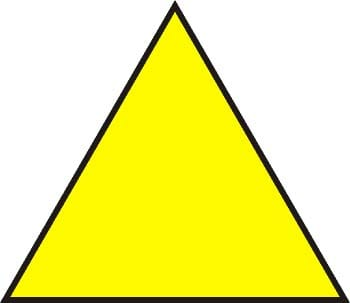triangulo: (1, 1, 349, 303)
